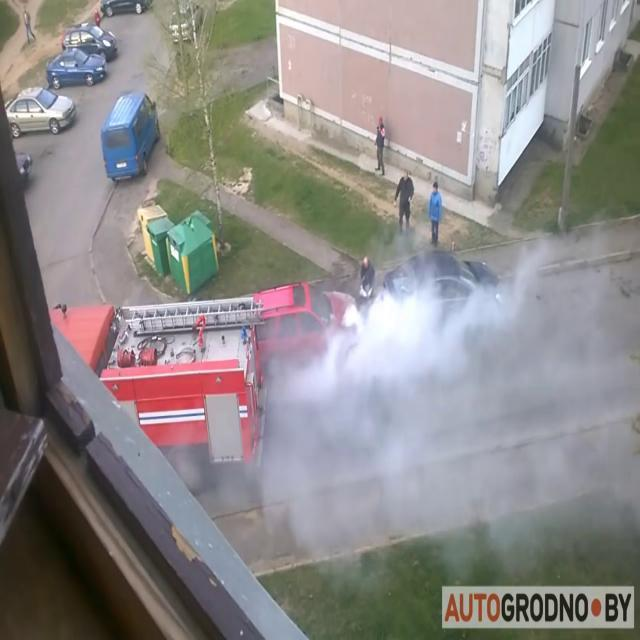Smoke: (272, 212, 640, 578)
